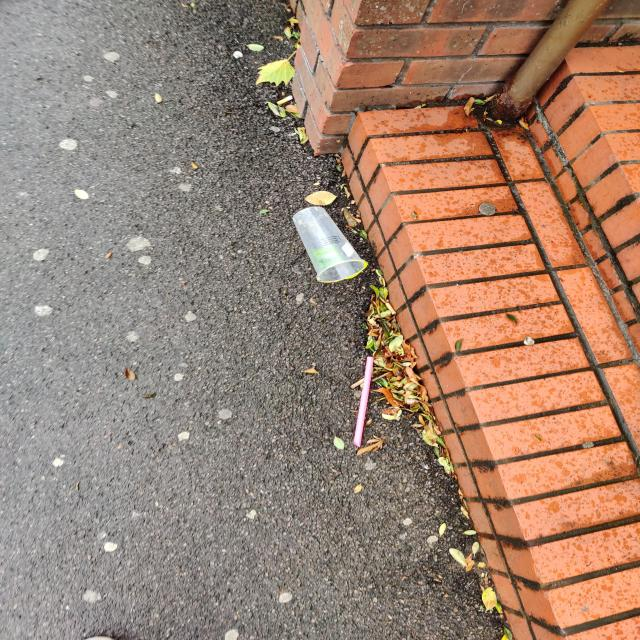litter: (292, 206, 364, 280)
